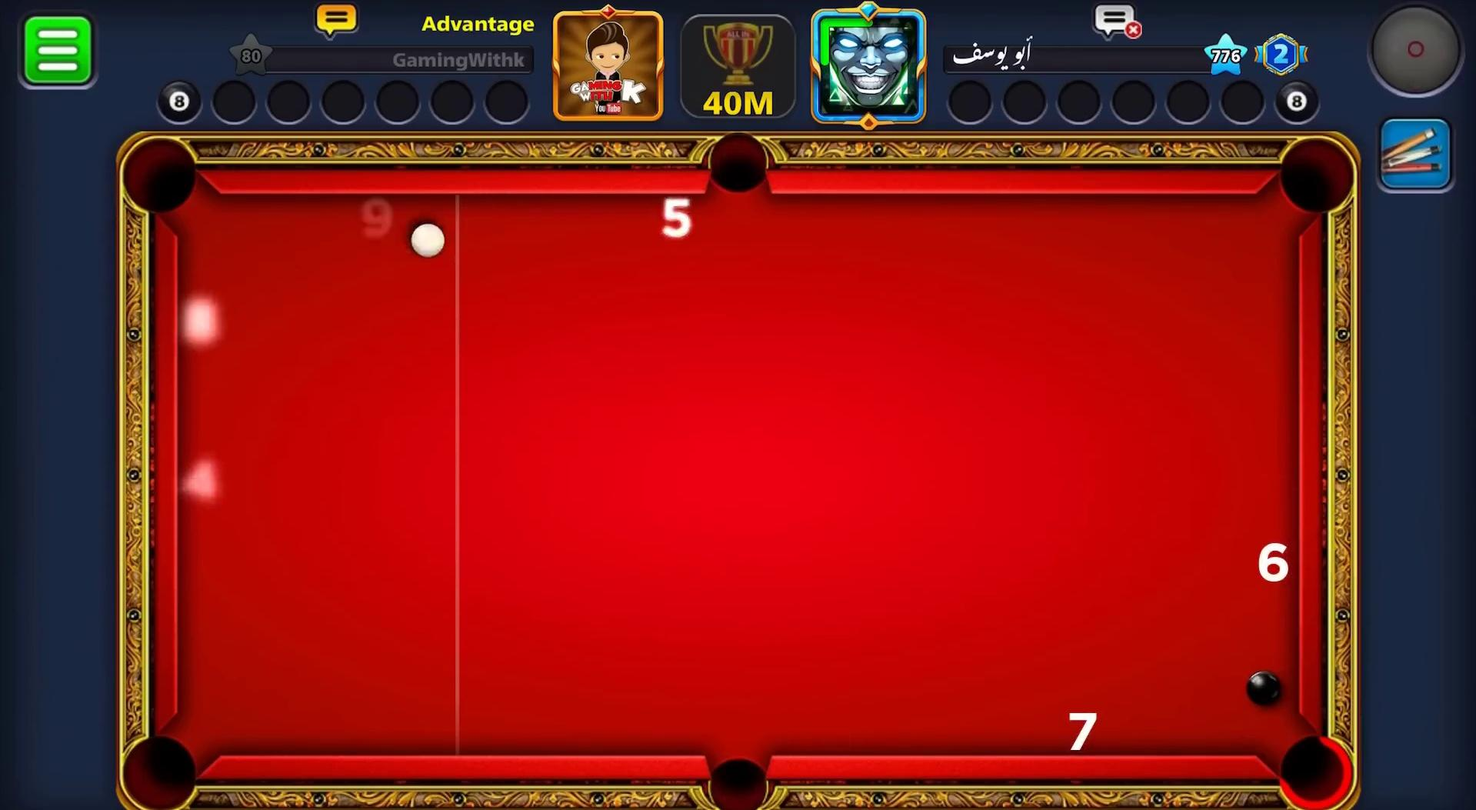Ball: (1242, 665, 1288, 708)
Hole: (1273, 725, 1358, 809), (1278, 136, 1355, 216), (122, 135, 198, 212), (122, 733, 198, 808), (707, 132, 768, 193), (704, 755, 771, 809)
Play_Area: (178, 195, 1294, 759)
Spin: (1365, 2, 1471, 102)
White: (405, 221, 448, 262)
